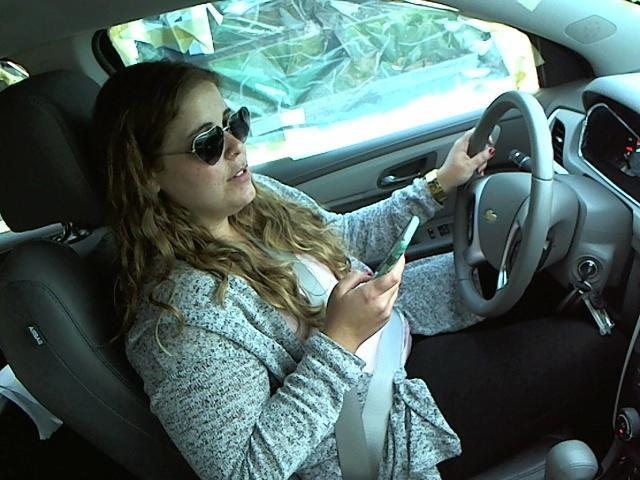PhoneUse: (364, 203, 434, 293)
